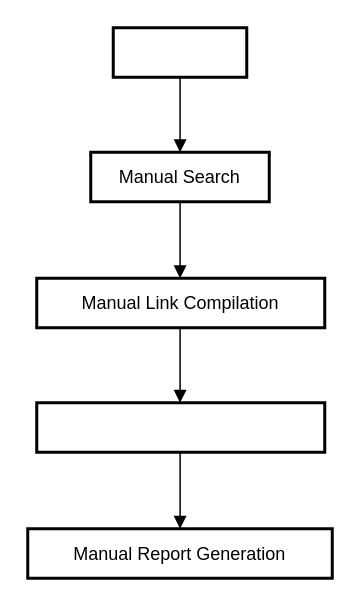
The diagram is 359 pixels wide and 605 high, and some of its shapes have lost their labels. The shapes that lost their labels are listed below. From the top down, each one's centre as x and y in pixels, then its label:
At [179,52]: "User Input".
At [180,426]: "Manual Capability Check".
